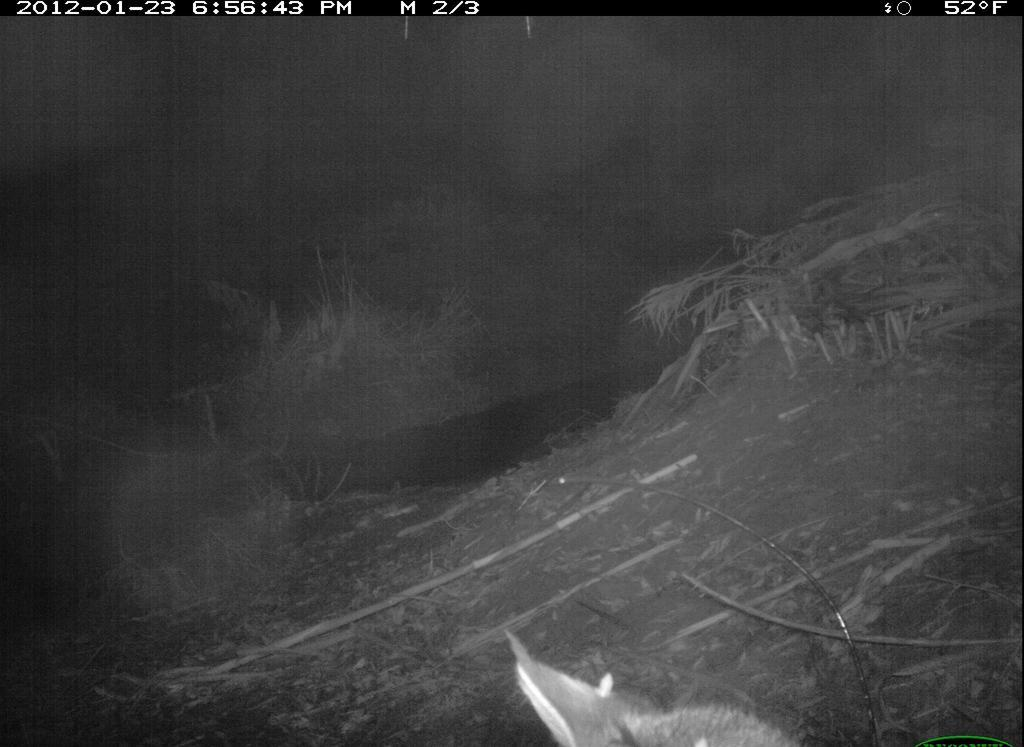bobcat: (505, 629, 815, 747)
